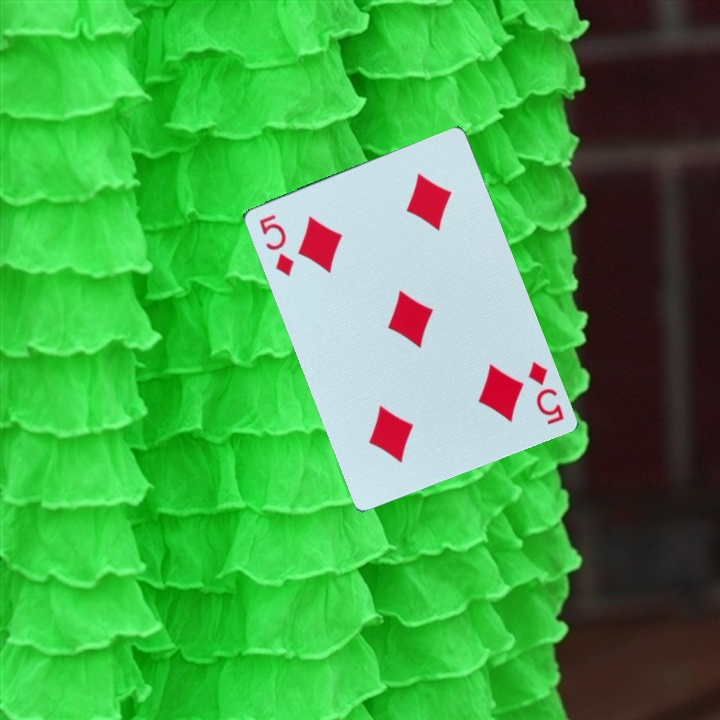5d: (523, 357, 567, 428), (255, 210, 297, 279)
